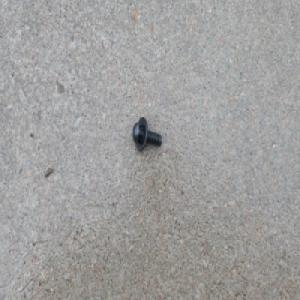BoltWasher: (131, 116, 162, 152)
